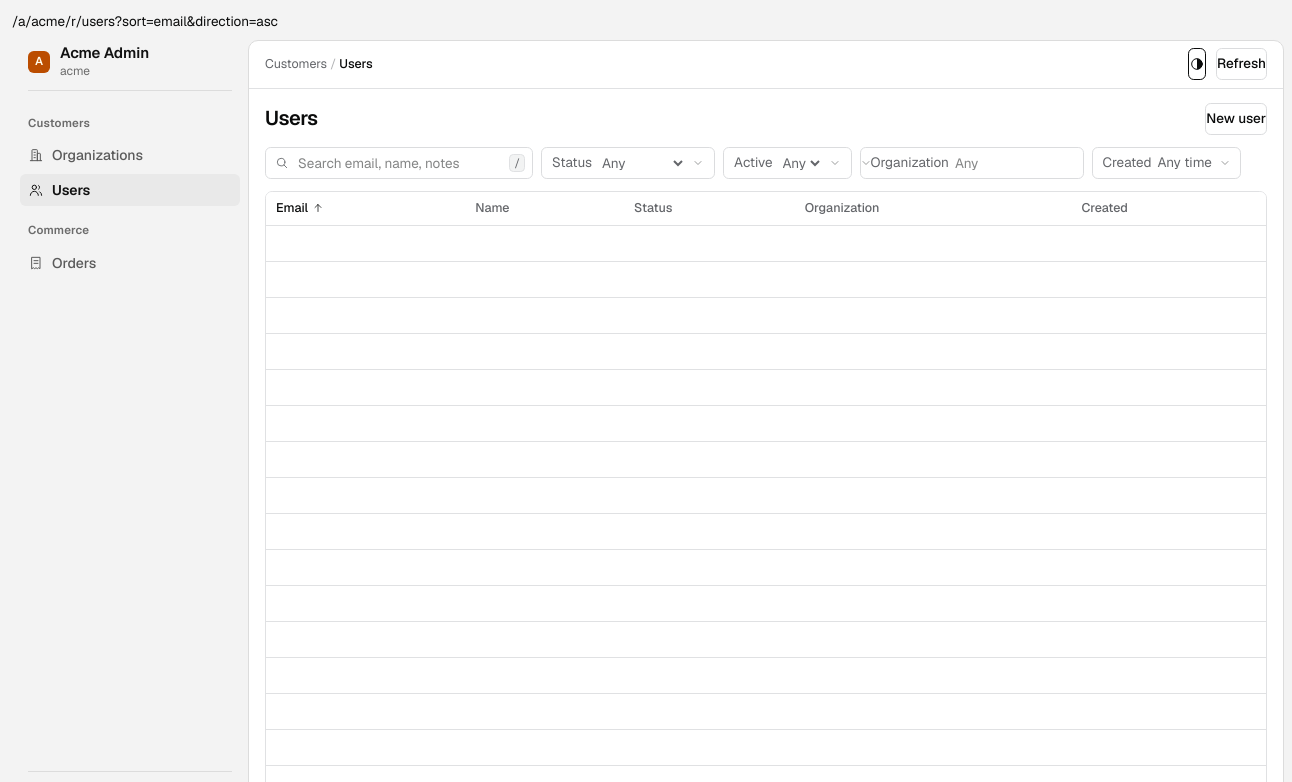
Test case: the table page › turns a sort around when the same header is pressed again
The width and height of the screenshot is (1292, 782).
Step 1. Click the button "Email" → (300, 208), box [272,199,328,217]
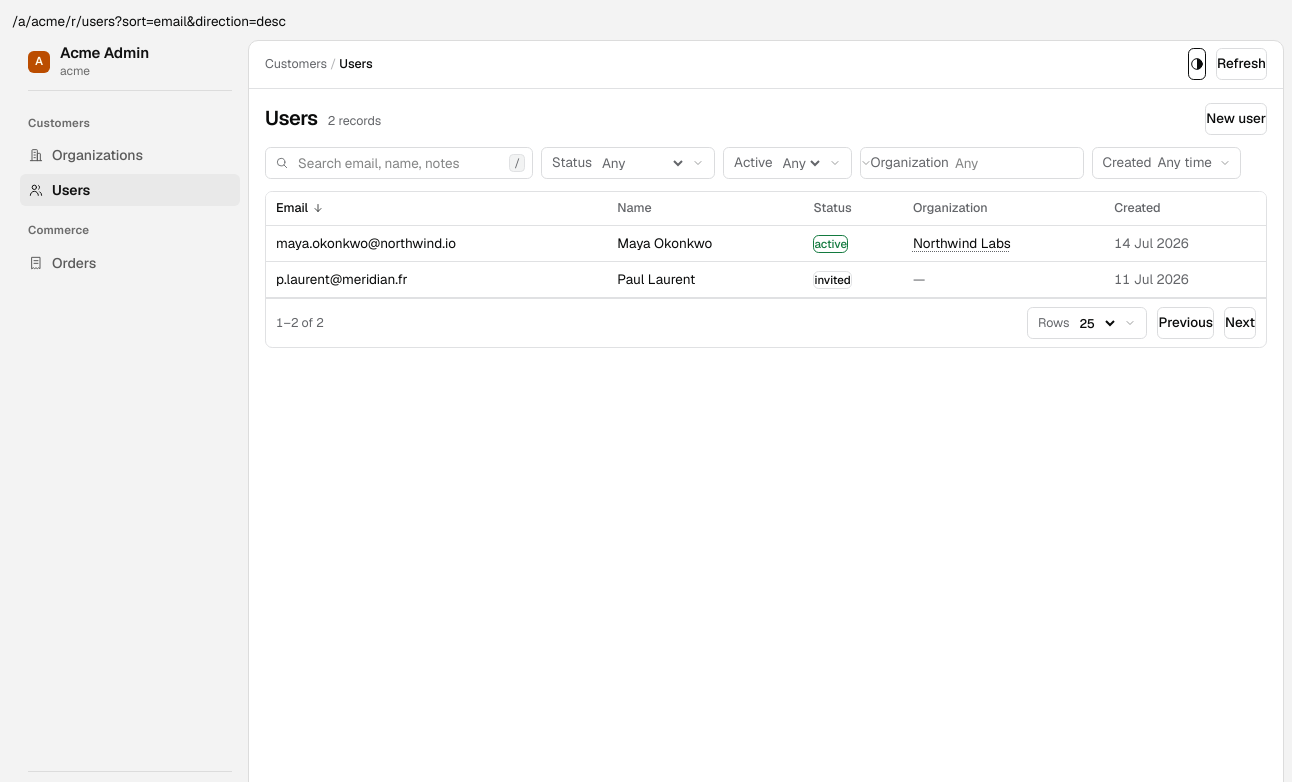
Expected: the text with test id "url" reads "/a/acme/r/users?sort=email&direction=desc", [12,12,286,30]
